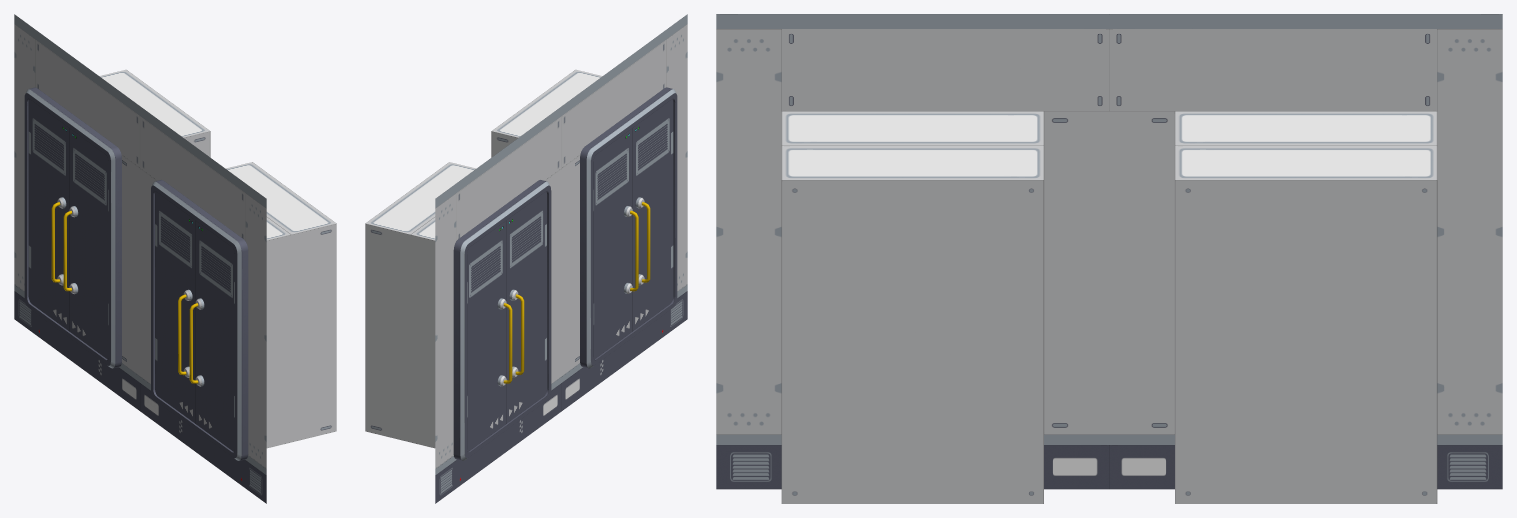
The model's file is Interior_Wall_Case_01.FBX.
The picture shows the model from 3 angles, left to right: view 1: azimuth 30°, elevation 25°; view 2: azimuth 150°, elevation 25°; view 3: azimuth 270°, elevation 25°; orthographic projection. The views are drawn at different scales.
Visible parts, largest first — view 1: Interior_Wall_Case_01, Door_B, Door_D, Door_A, Door_C; view 2: Interior_Wall_Case_01, Door_C, Door_A, Door_D, Door_B; view 3: Interior_Wall_Case_01.
Boxes of the visible parts, <box> form: Interior_Wall_Case_01: <box>14,14,336,503</box>; Door_B: <box>63,128,108,359</box>; Door_D: <box>189,221,234,451</box>; Door_A: <box>28,99,69,331</box>; Door_C: <box>155,192,195,423</box>; Interior_Wall_Case_01: <box>365,14,687,503</box>; Door_C: <box>593,128,638,359</box>; Door_A: <box>467,221,512,451</box>; Door_D: <box>632,99,673,331</box>; Door_B: <box>506,191,546,423</box>; Interior_Wall_Case_01: <box>716,14,1502,503</box>.
Bounding box in the file's own units: 1.52 × 4 × 6.
3 materials, 3 textured.
